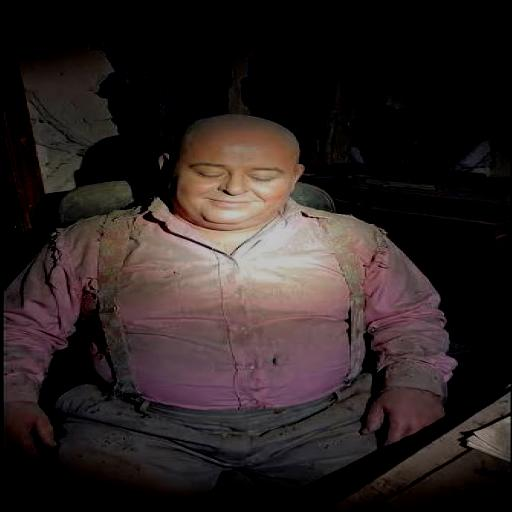sboui: (157, 114, 304, 232)
